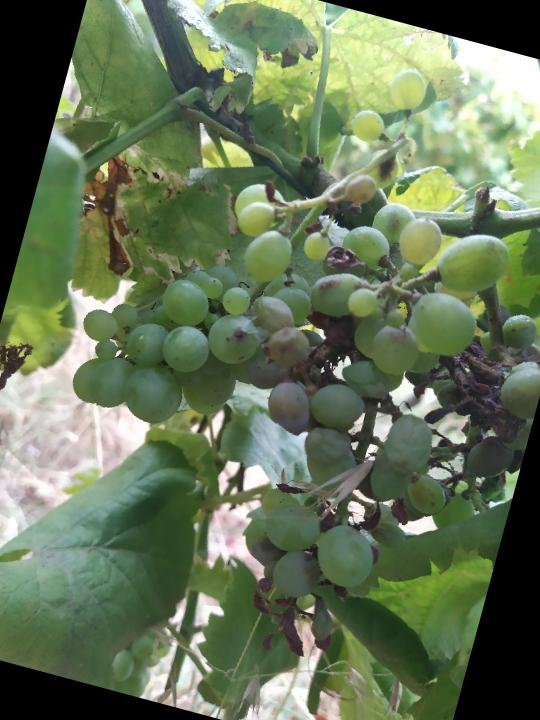grape: (120, 134, 540, 708)
